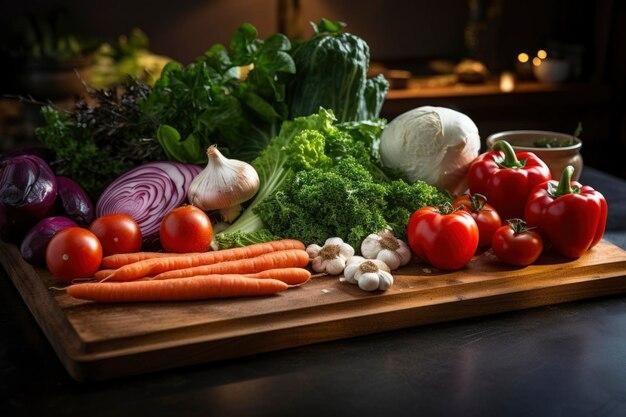bellpepper: (472, 146, 621, 249)
carrot: (66, 274, 293, 303)
onion: (5, 149, 125, 233)
tomato: (411, 197, 547, 290), (38, 212, 229, 257)
